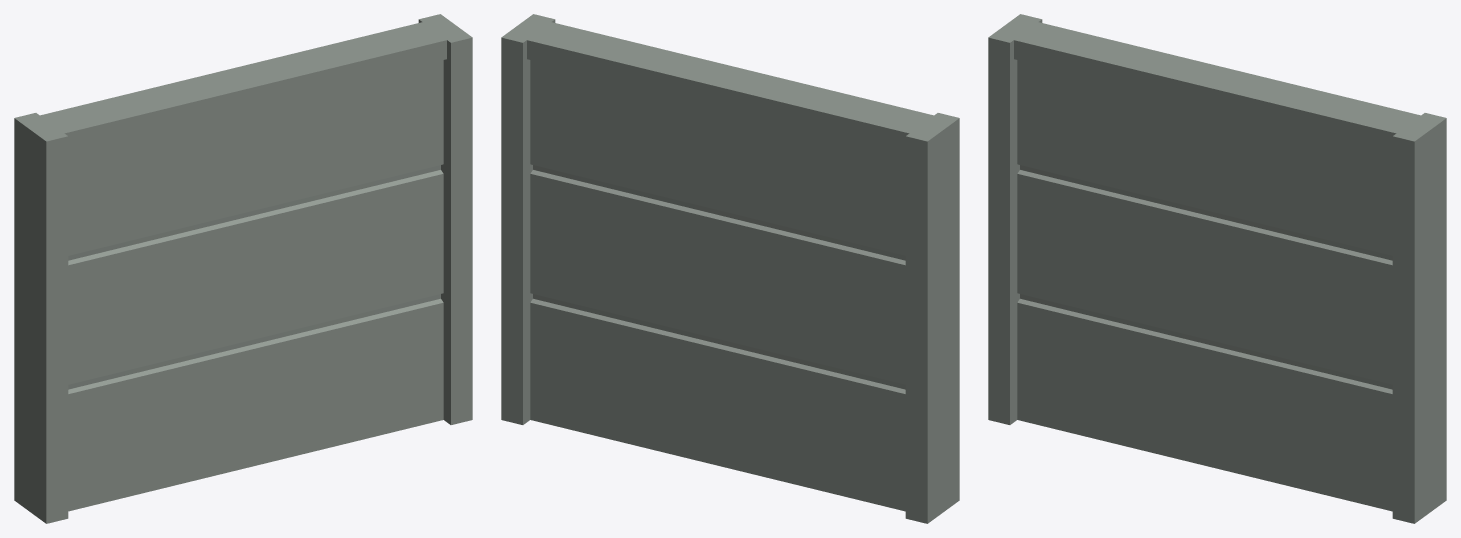
Rendered from M_Fence350x350_04.fbx.
3 renders of one model, left to right at view 1: azimuth 30°, elevation 25°; view 2: azimuth 150°, elevation 25°; view 3: azimuth 330°, elevation 25°, orthographic.
Parts seen in each view (by area): view 1: M_Fence350x350_04; view 2: M_Fence350x350_04; view 3: M_Fence350x350_04.
Boxes of the visible parts, x1,y1,x2,y2 form: M_Fence350x350_04: (14,14,472,523); M_Fence350x350_04: (501,14,959,523); M_Fence350x350_04: (988,14,1446,523).
Size of the model in its own units: 350 by 45.78 by 300.
